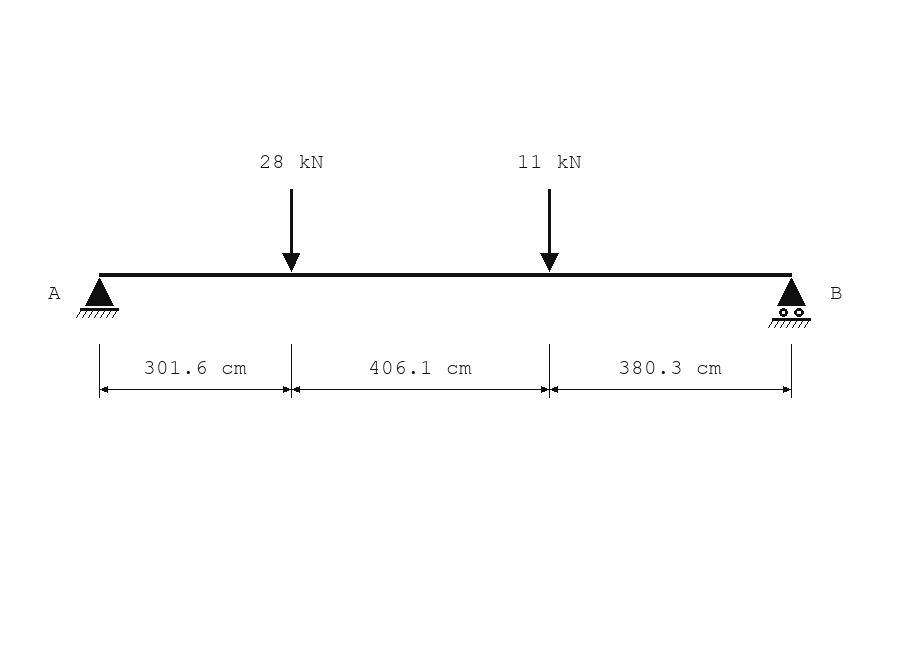pin_support: (76, 278, 119, 318)
point_load: (540, 189, 559, 272), (282, 189, 300, 272)
roller_support: (768, 278, 811, 328)
